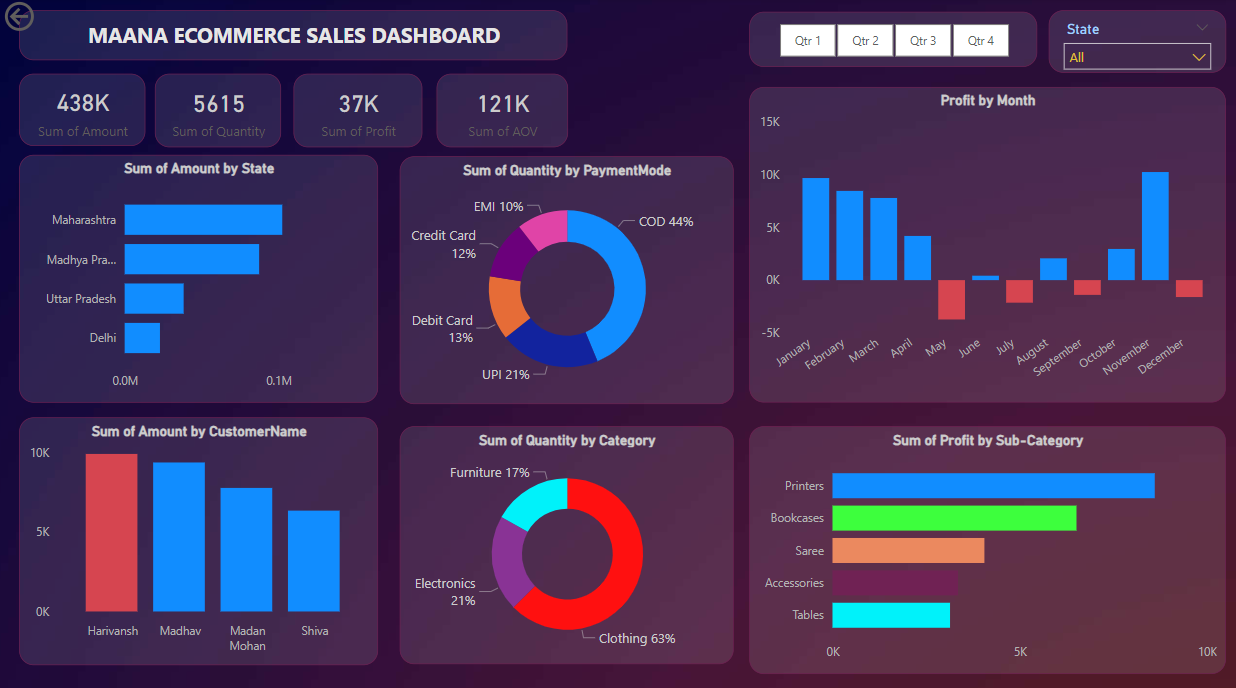

The dashboard page shown, as its layout file describes it:
{"tool":"powerbi","page":{"name":"Page 1","canvas":[1280,720],"ordinal":0},"visuals":[{"type":"textbox","box":[20,14.3,565.7,51.4],"z":0},{"type":"columnChart","title":"Profit by Month","fields":{"Category":["Orders.Order Date.Variation.Date Hierarchy.Month"],"Y":["Details.Profit"]},"box":[772.9,92.9,491.4,325.7],"z":1000},{"type":"barChart","fields":{"Category":["Details.Sub-Category"],"Y":["Details.Profit"]},"box":[772.9,442.9,491.4,255.7],"z":2000},{"type":"donutChart","fields":{"Category":["Details.Category"],"Y":["Details.Quantity"]},"box":[412.9,442.9,344.3,245.7],"z":3000},{"type":"donutChart","fields":{"Y":["Details.Quantity"],"Category":["Details.PaymentMode"]},"box":[412.9,164.3,344.3,255.7],"z":4000},{"type":"card","fields":{"Values":["Details.Amount"]},"box":[20,78.6,130,74.3],"z":5000},{"type":"card","fields":{"Values":["Details.Quantity"]},"box":[160,78.6,130,75.7],"z":6000},{"type":"card","fields":{"Values":["Details.AOV"]},"box":[450,78.6,135.7,75.7],"z":7000},{"type":"card","fields":{"Values":["Details.Profit"]},"box":[302.9,78.6,132.9,75.7],"z":8000},{"type":"actionButton","box":[0,0,100,40],"z":9000},{"type":"barChart","fields":{"Category":["Orders.State"],"Y":["Details.Amount"]},"box":[20,162.9,370,255.7],"z":10000},{"type":"columnChart","fields":{"Category":["Orders.CustomerName"],"Y":["Details.Amount"]},"box":[20,432.9,370,255.7],"z":11000},{"type":"slicer","fields":{"Values":["Orders.Order Date.Variation.Date Hierarchy.Quarter"]},"box":[772.9,15.7,297.1,57.1],"z":12000},{"type":"slicer","fields":{"Values":["Orders.State"]},"box":[1081.4,14.3,182.9,64.3],"z":13000}]}

Visuals, with their boxes in screenshot pixels (x1, y1, x2, y2), scaled from the page's 1280x720 canvas onto the 1236x688 screenshot:
textbox: (19,14,566,63)
"Profit by Month" columnChart: (746,89,1221,400)
barChart - Details.Sub-Category x Details.Profit: (746,423,1221,668)
donutChart - Details.Category x Details.Quantity: (399,423,731,658)
donutChart - Details.Quantity x Details.PaymentMode: (399,157,731,401)
card - Details.Amount: (19,75,145,146)
card - Details.Quantity: (154,75,280,147)
card - Details.AOV: (435,75,566,147)
card - Details.Profit: (292,75,421,147)
actionButton: (0,0,97,38)
barChart - Orders.State x Details.Amount: (19,156,377,400)
columnChart - Orders.CustomerName x Details.Amount: (19,414,377,658)
slicer - Orders.Order Date.Variation.Date Hierarchy.Quarter: (746,15,1033,70)
slicer - Orders.State: (1044,14,1221,75)
